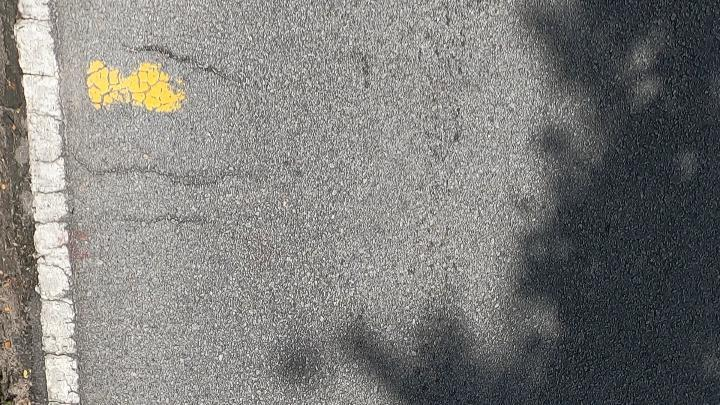Crack: (82, 148, 261, 243), (112, 32, 258, 100), (121, 39, 238, 88), (89, 157, 242, 191), (110, 209, 227, 229)
Lane: (1, 0, 76, 405), (14, 0, 78, 404)
